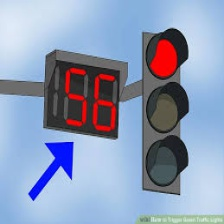semaforo: (141, 26, 189, 195)
